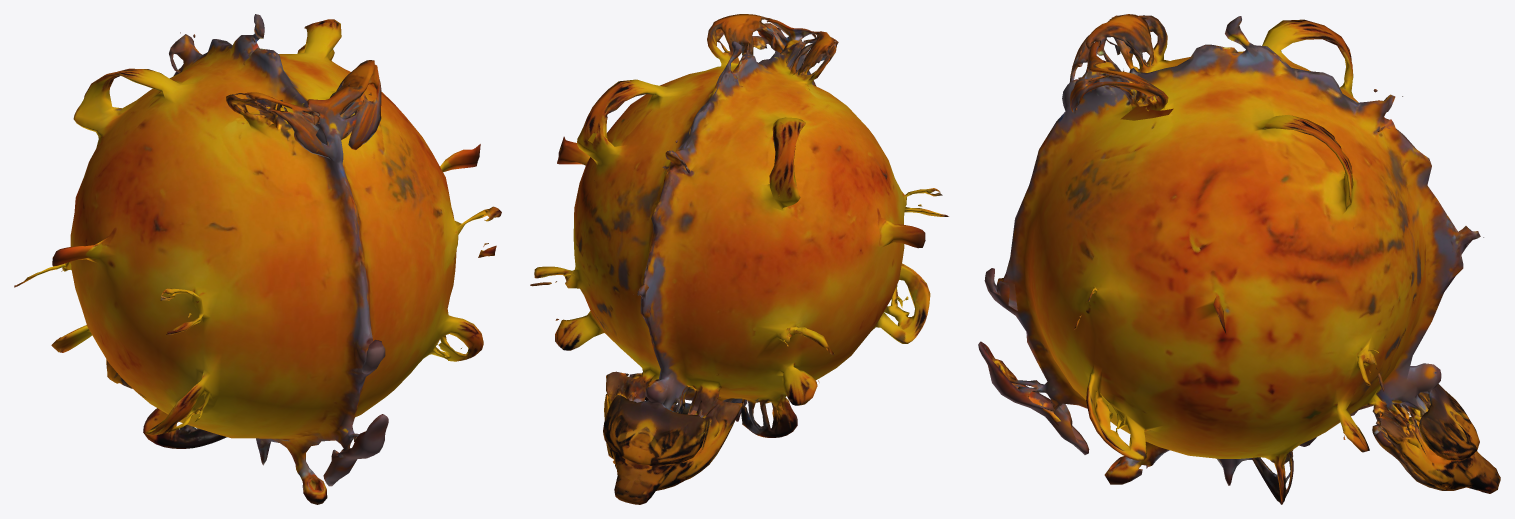
The model's file is sol.obj.
The picture shows the model from 3 angles, left to right: view 1: azimuth 30°, elevation 25°; view 2: azimuth 150°, elevation 25°; view 3: azimuth 270°, elevation 25°; orthographic projection. The views are drawn at different scales.
Parts seen in each view (by area): view 1: tripo_node_54df2a24-0e71-4d44-b129-c78f604f21c8; view 2: tripo_node_54df2a24-0e71-4d44-b129-c78f604f21c8; view 3: tripo_node_54df2a24-0e71-4d44-b129-c78f604f21c8.
Boxes of the visible parts, x1,y1,x2,y2 form: tripo_node_54df2a24-0e71-4d44-b129-c78f604f21c8: (14,14,501,504); tripo_node_54df2a24-0e71-4d44-b129-c78f604f21c8: (530,14,948,504); tripo_node_54df2a24-0e71-4d44-b129-c78f604f21c8: (978,14,1500,504).
Size of the model in its own units: 0.9598 by 0.9686 by 0.9717.
1 material, 1 textured.
